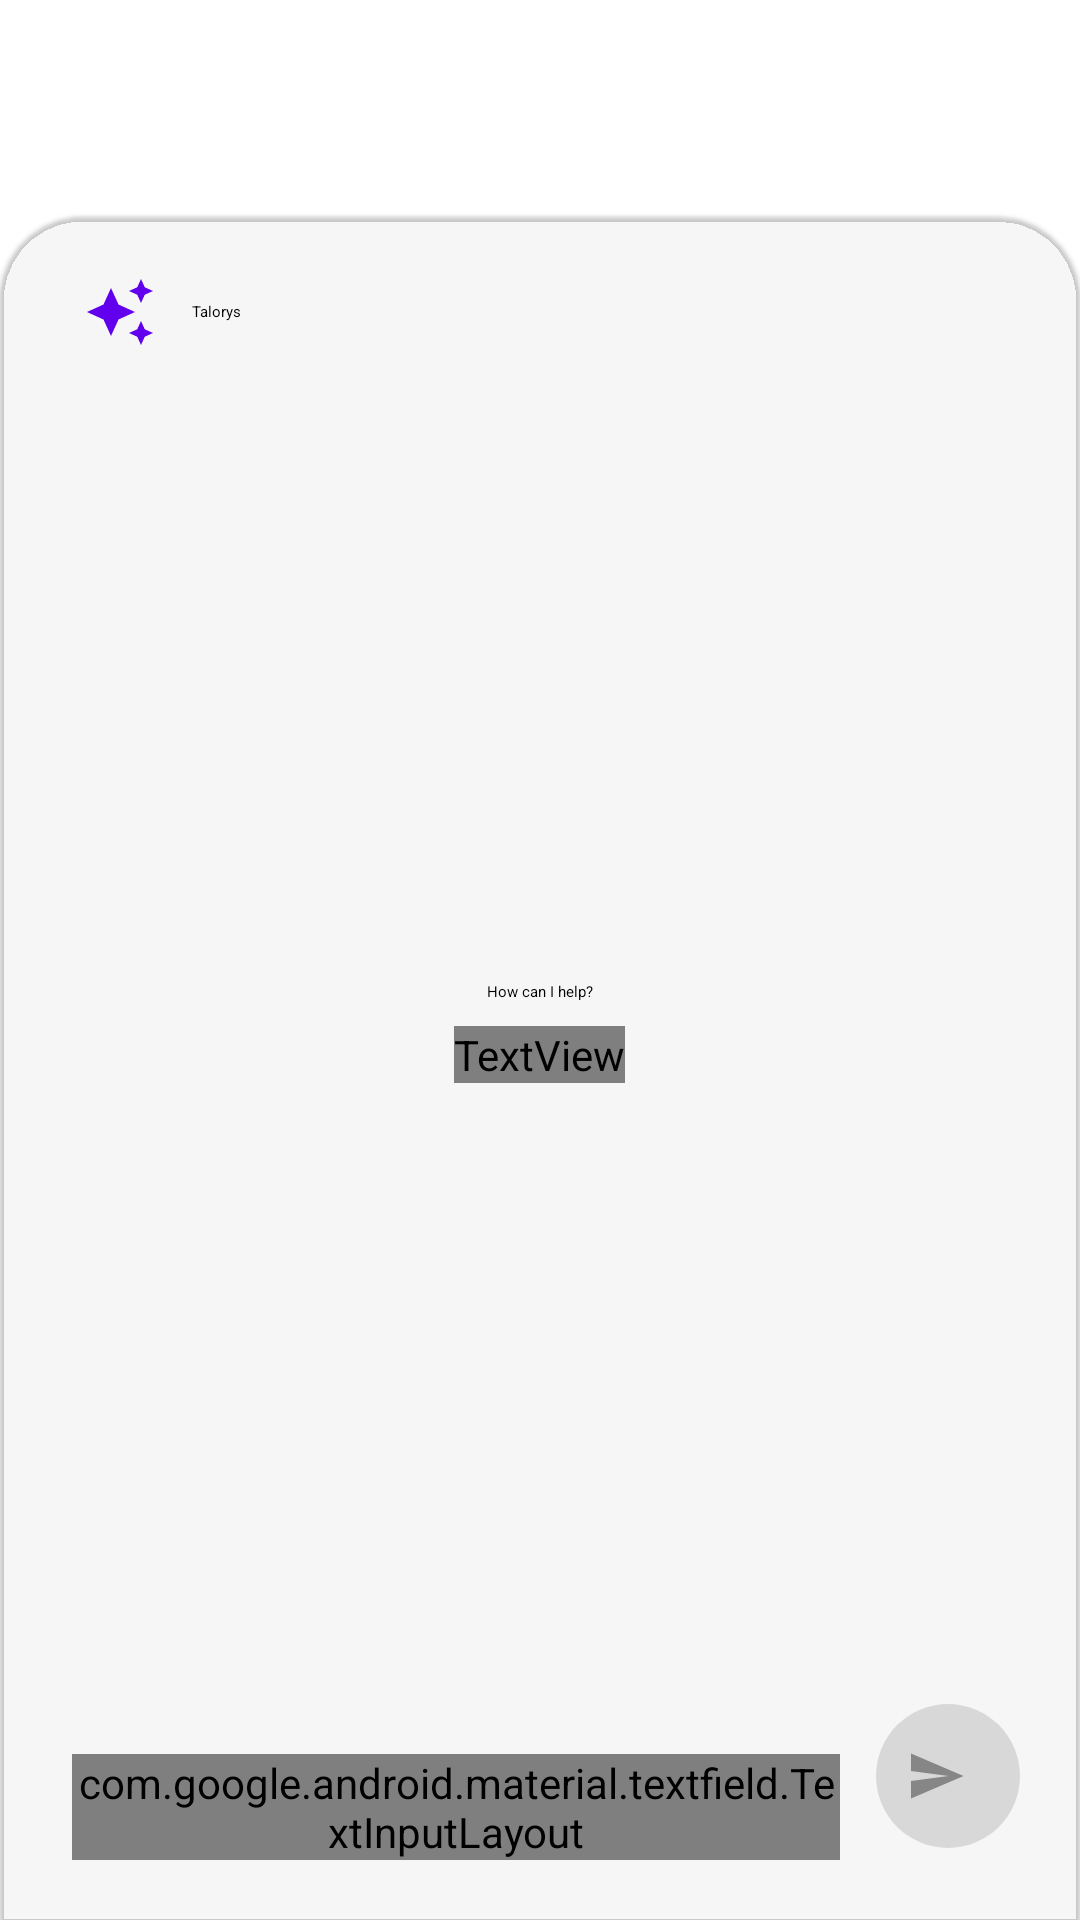

Icons on this 1080 × 1920 Android screen, each with the point to tap as (x,y):
Send: (948,1776)
sparkle: (120,312)
